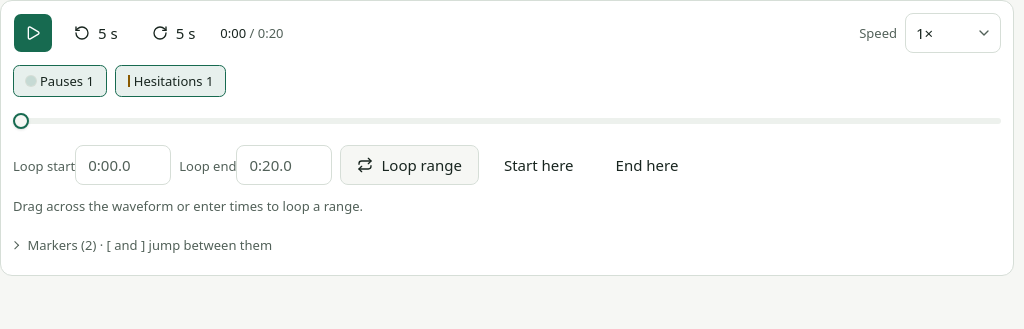
Test: WaveformPlayer › seeks when a marker is chosen from the list
Step 1. Click the heading "Markers (2) · [ and ] jump between them" → (150, 245), box [27, 236, 272, 254]
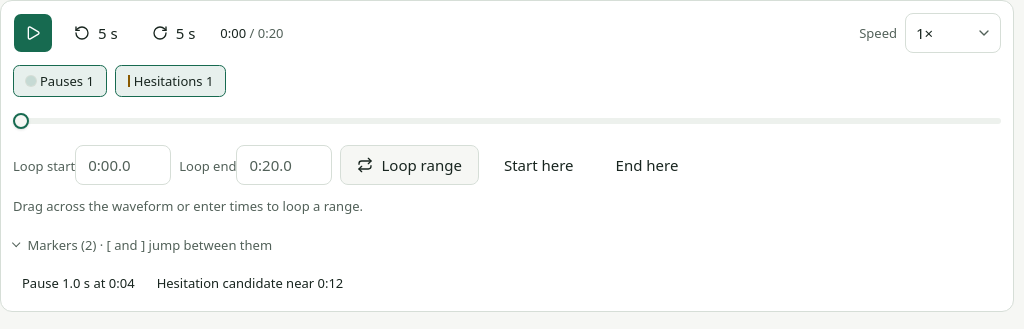
Step 2. Click the button "Hesitation candidate near 0:12" → (250, 283), box [148, 267, 352, 299]
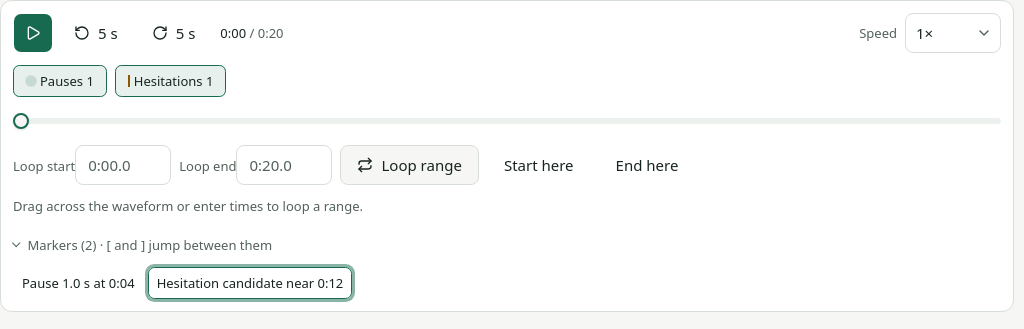
Note: Hiding a kind removes it from the waveform and the list.
Step 3. Click the button "Hesitations 1" → (171, 81), box [115, 65, 226, 97]
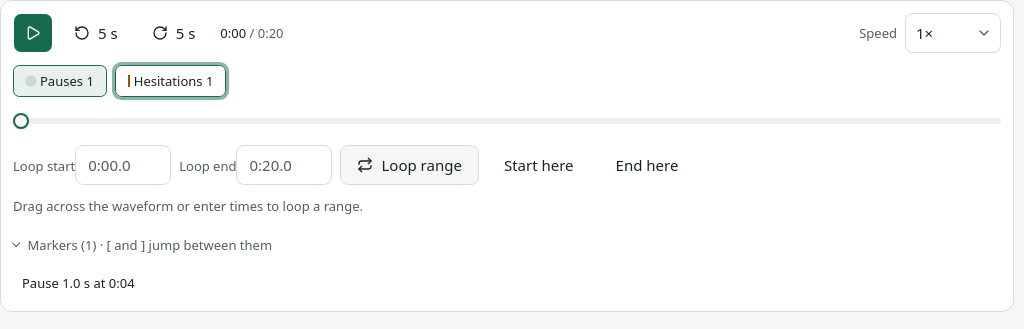
Expected: the button "Hesitation candidate near 0:12" is gone
